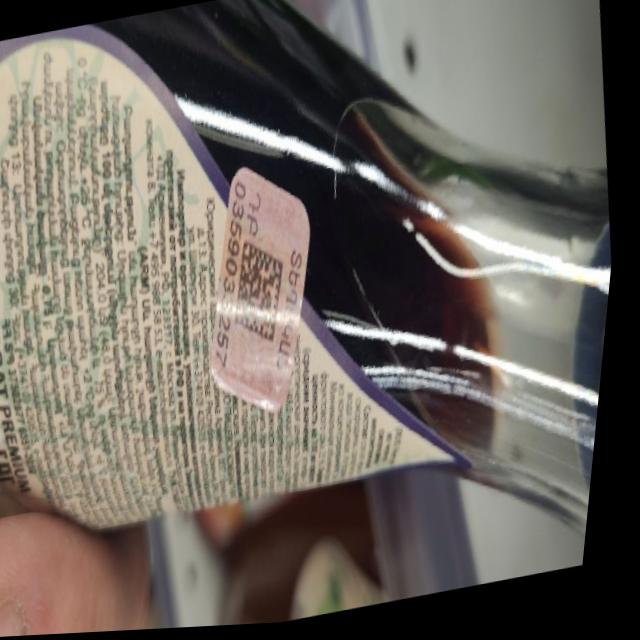datamatrix: (229, 235, 305, 358)
